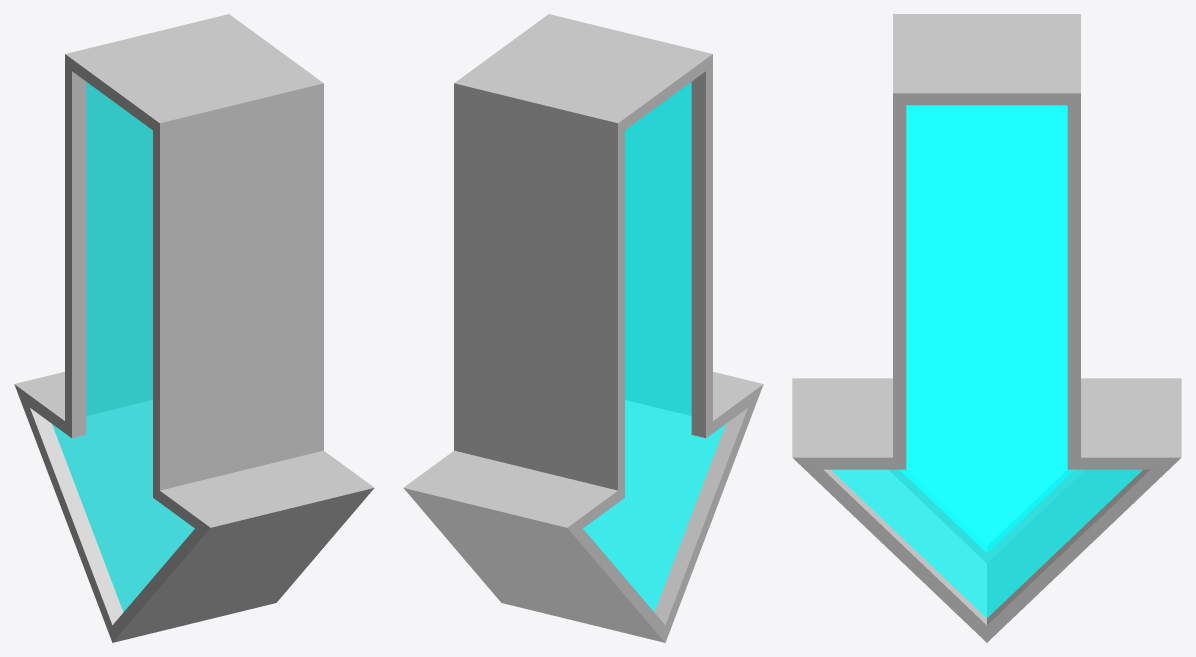
The model's file is seta.fbx.
3 views of the same model, side by side, from view 1: azimuth 30°, elevation 25°; view 2: azimuth 150°, elevation 25°; view 3: azimuth 270°, elevation 25° (orthographic).
Parts seen in each view (by area): view 1: Cube; view 2: Cube; view 3: Cube.
Boxes of the visible parts, x1=… form: Cube: x1=14, y1=14, x2=374, y2=642; Cube: x1=403, y1=14, x2=763, y2=642; Cube: x1=792, y1=14, x2=1181, y2=642.
Bounding box in the file's own units: 24.1 × 77.84 × 50.
